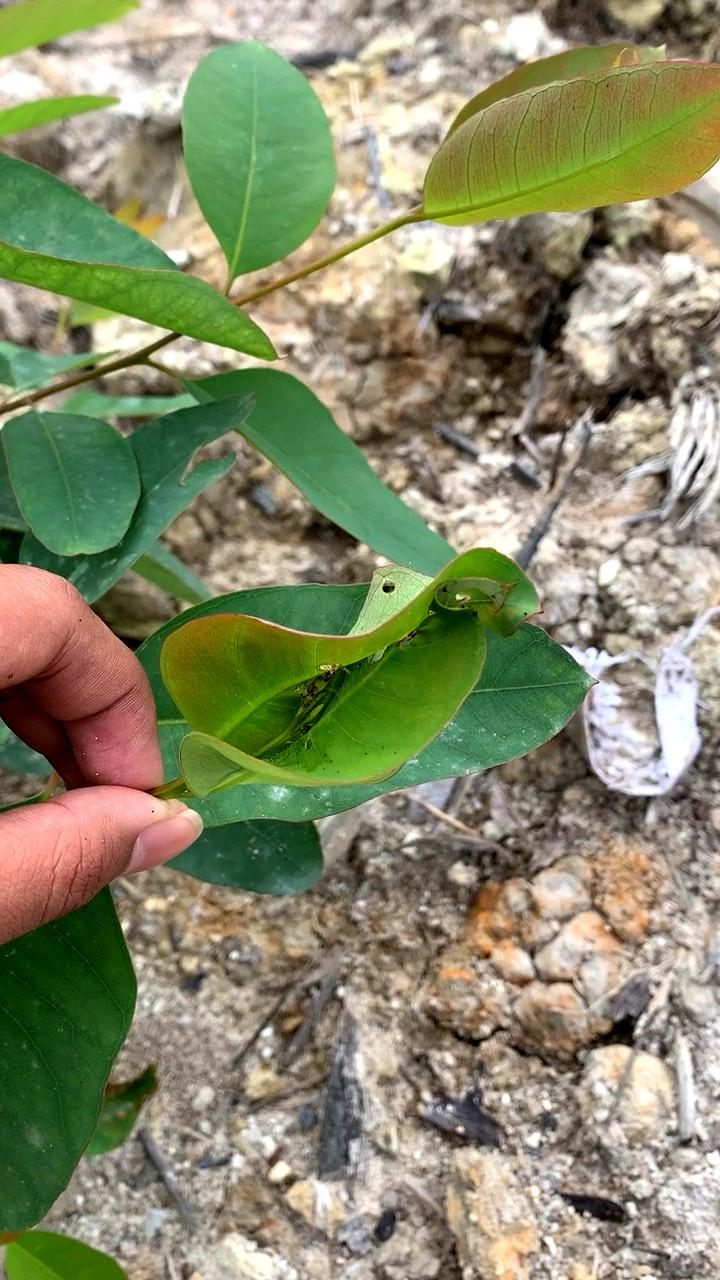Leaf Roller - Leaf: (107, 531, 573, 840)
